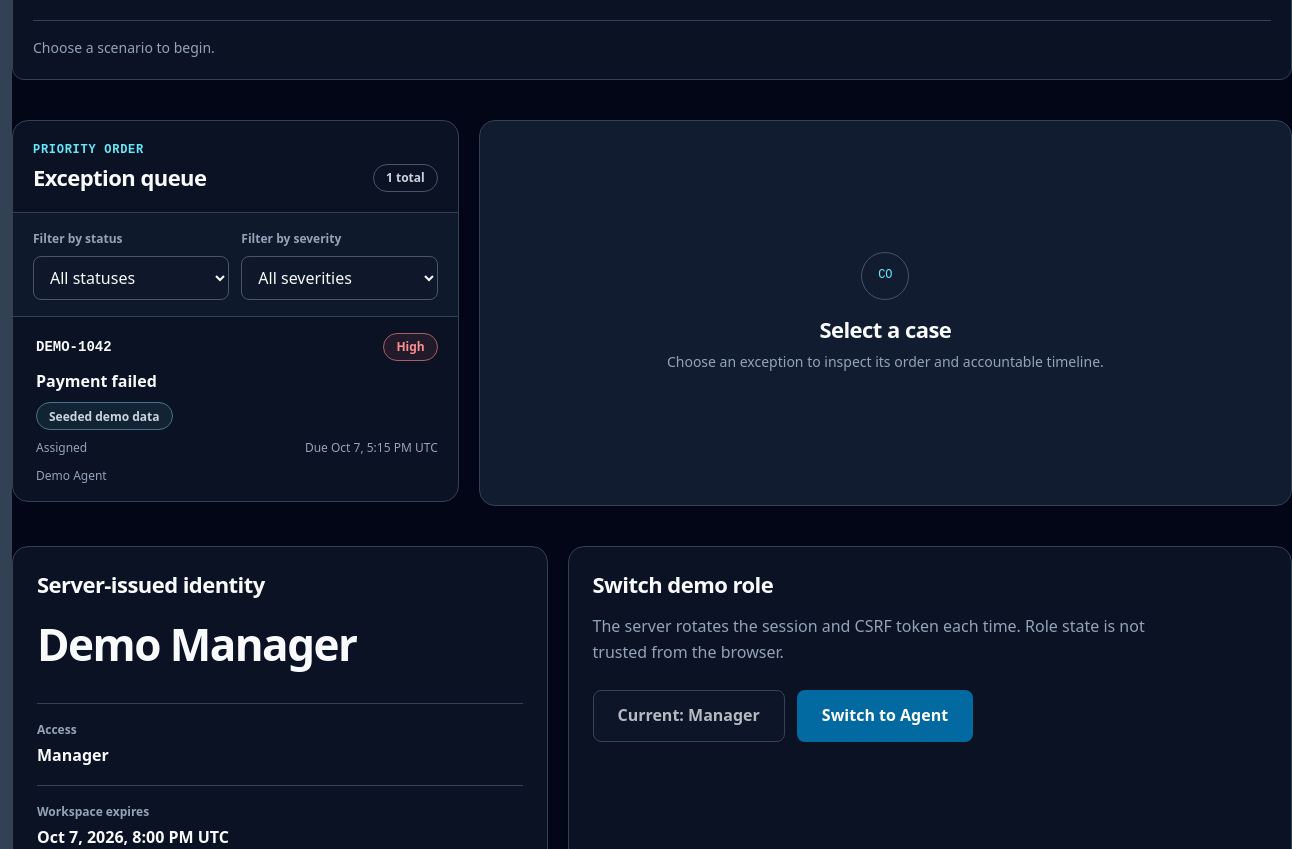
it: I03 exception operations workspace › lets a Manager assign a case with the current version and command protections
(page scrolled)
Click the button with aria-label "open demo-1042" at (74, 347), box top-left (13, 317), bottom-right (458, 501)
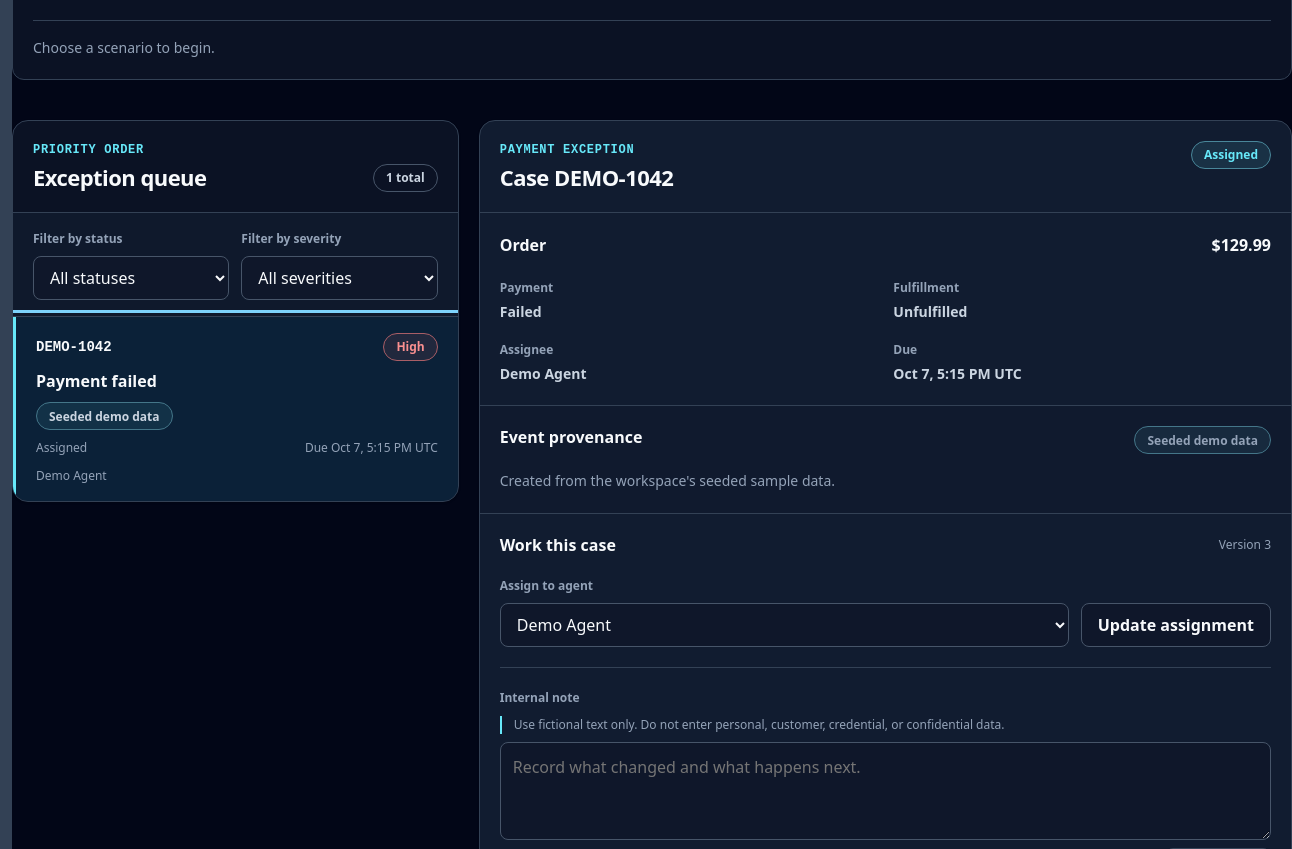
Select "Avery Chen" in the dropdown labelled "Assign to agent" at (784, 625), box top-left (500, 603), bottom-right (1069, 647)
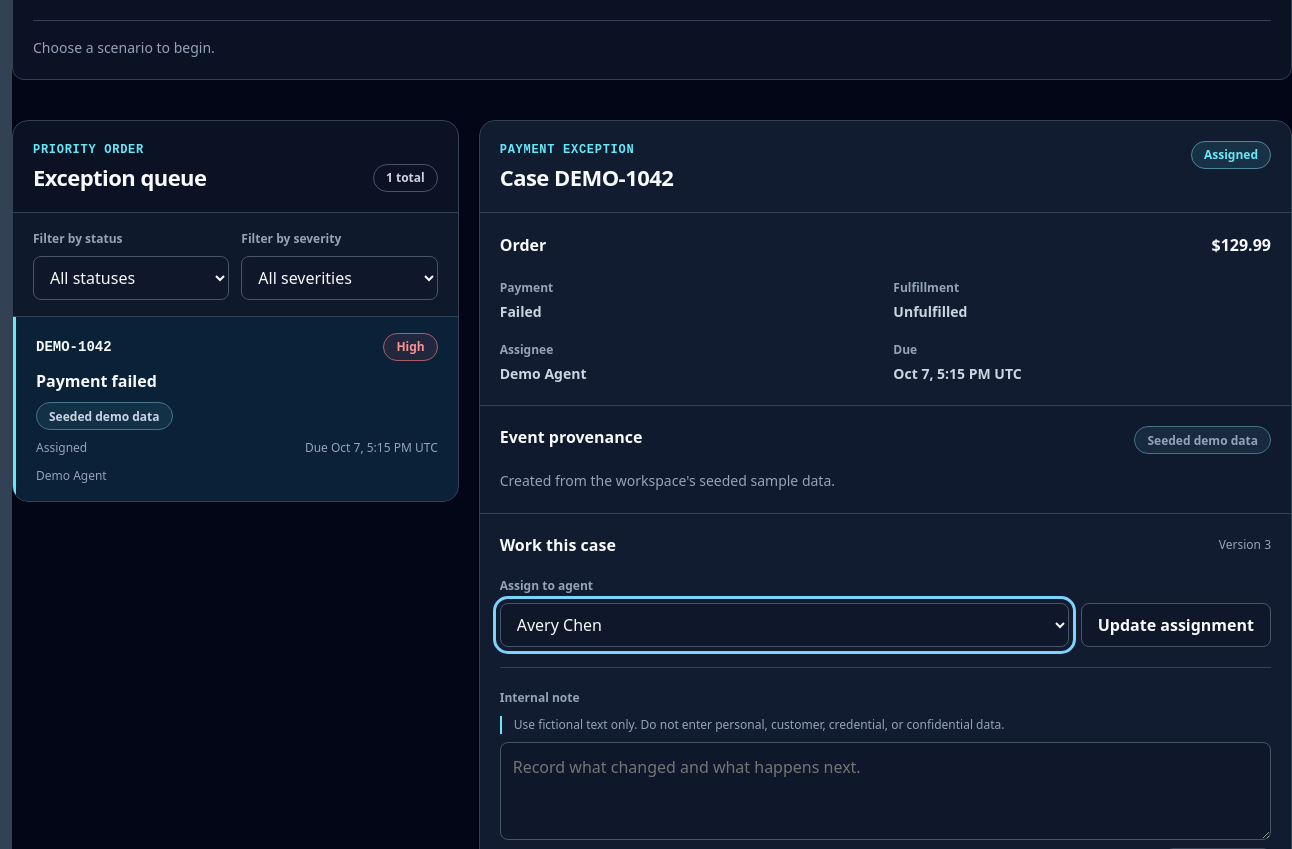
Click the button "Update assignment" at (1176, 625), box top-left (1081, 603), bottom-right (1271, 647)
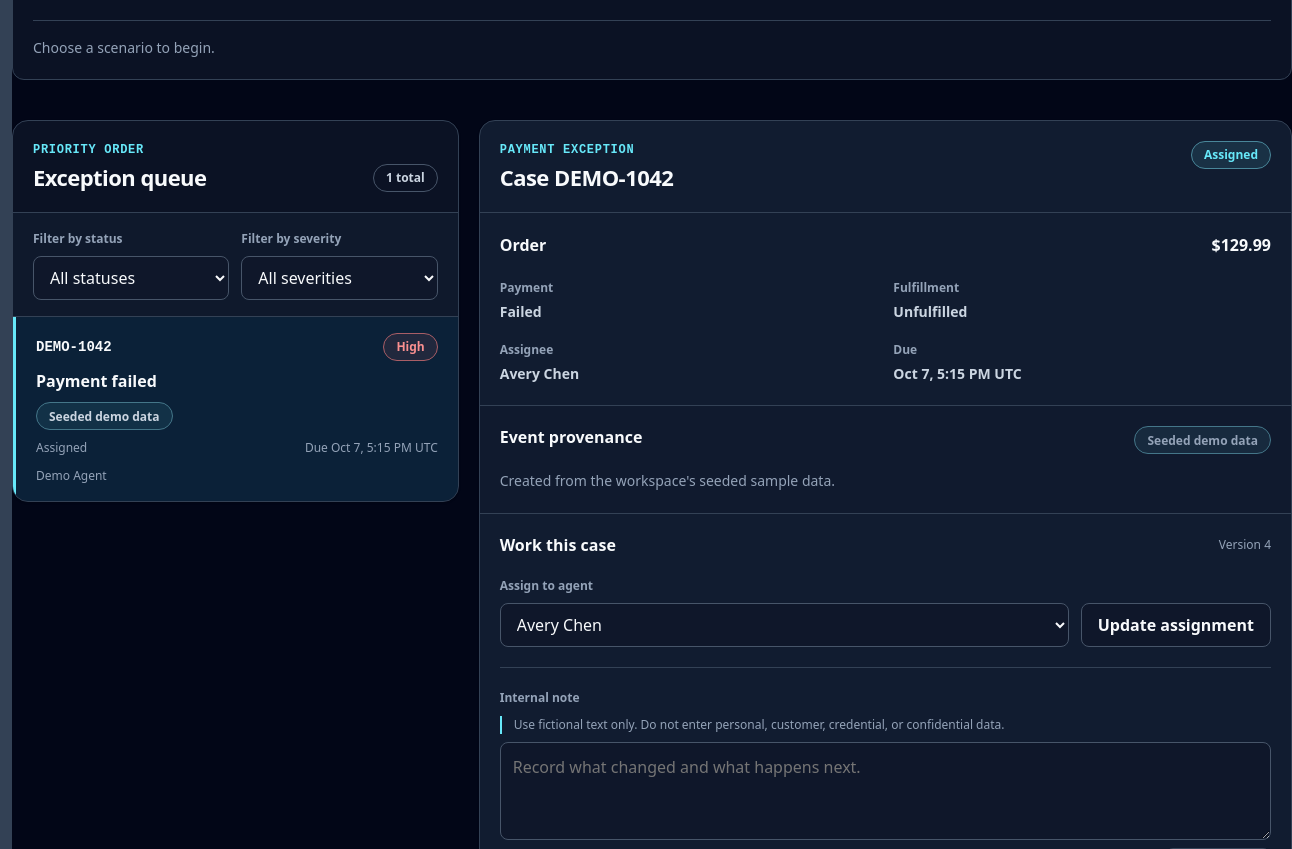
Check: the text "Avery Chen" is shown, box top-left (500, 364), bottom-right (579, 383)
